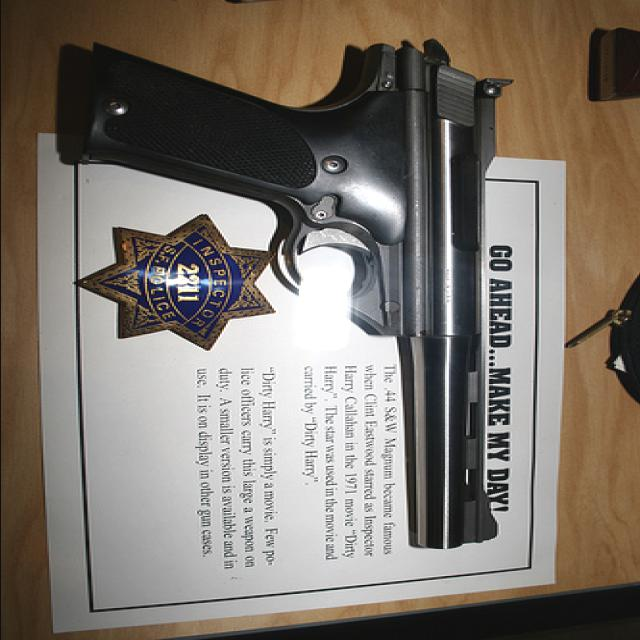handgun: (60, 36, 518, 550)
